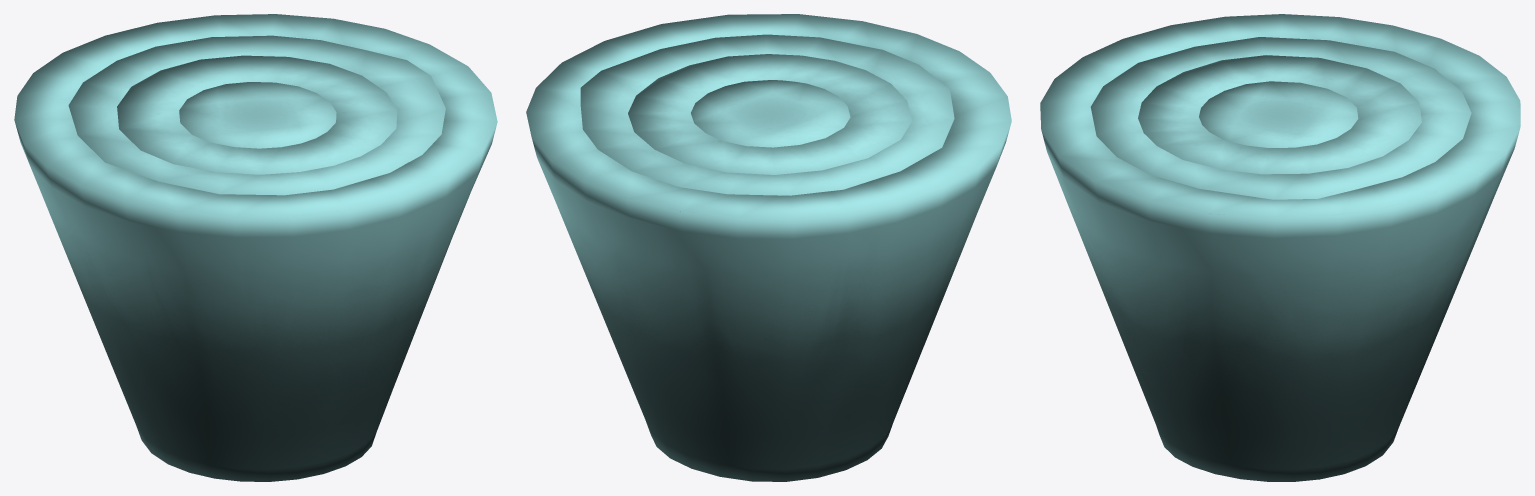
File: Iceberg_decimate_test_01.fbx
The picture shows the model from 3 angles, left to right: view 1: azimuth 30°, elevation 25°; view 2: azimuth 150°, elevation 25°; view 3: azimuth 270°, elevation 25°; orthographic projection.
Visible parts, largest first — view 1: Outer_low_poly, Outer_low_poly_01, Outer_low_poly_02, Outer_low_poly_03; view 2: Outer_low_poly, Outer_low_poly_01, Outer_low_poly_02, Outer_low_poly_03; view 3: Outer_low_poly, Outer_low_poly_01, Outer_low_poly_02, Outer_low_poly_03.
Boxes of the visible parts, bbox=[...] form: Outer_low_poly: bbox=[14, 14, 497, 481]; Outer_low_poly_01: bbox=[68, 35, 445, 195]; Outer_low_poly_02: bbox=[117, 55, 397, 174]; Outer_low_poly_03: bbox=[179, 82, 336, 148]; Outer_low_poly: bbox=[526, 14, 1011, 481]; Outer_low_poly_01: bbox=[580, 34, 954, 195]; Outer_low_poly_02: bbox=[628, 54, 912, 174]; Outer_low_poly_03: bbox=[691, 80, 850, 147]; Outer_low_poly: bbox=[1040, 14, 1520, 481]; Outer_low_poly_01: bbox=[1090, 37, 1471, 199]; Outer_low_poly_02: bbox=[1138, 55, 1421, 174]; Outer_low_poly_03: bbox=[1199, 81, 1358, 147].
Bounding box in the file's own units: 204 × 147 × 202.
